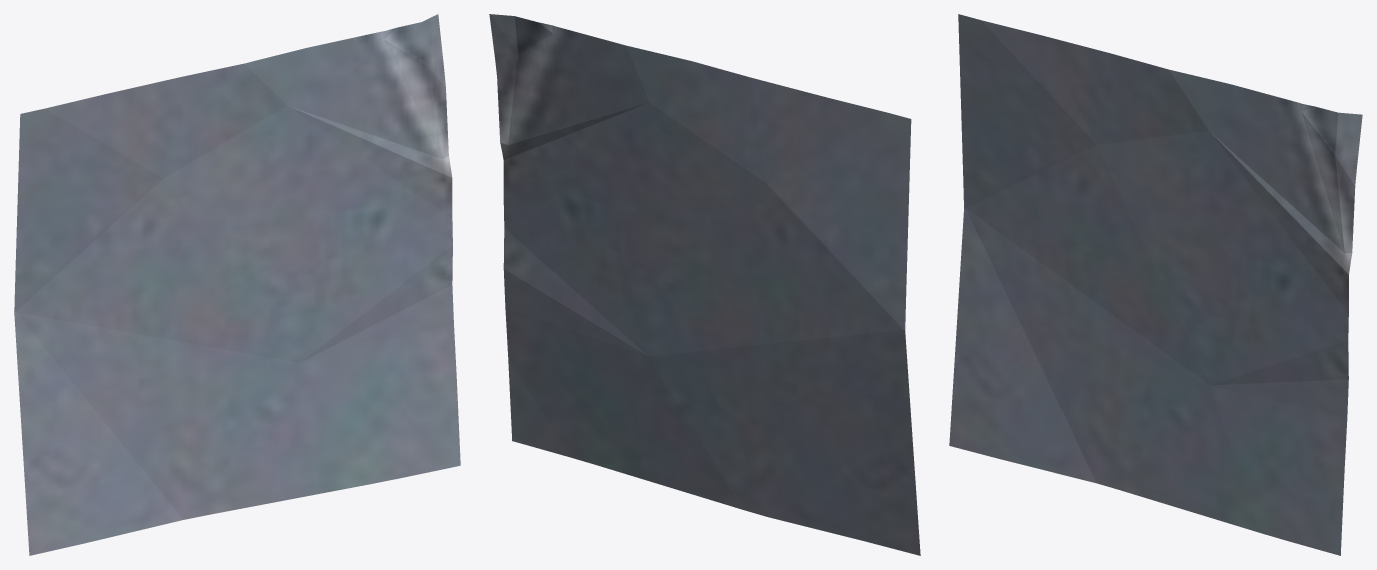
File: Tile_+002_+006_L24_0001112.obj
3 renders of one model, left to right at view 1: azimuth 30°, elevation 25°; view 2: azimuth 150°, elevation 25°; view 3: azimuth 330°, elevation 25°, orthographic. The views are drawn at different scales.
Bounding box in the file's own units: 0.9531 × 0.9531 × 0.1207.
1 material, 1 textured.
